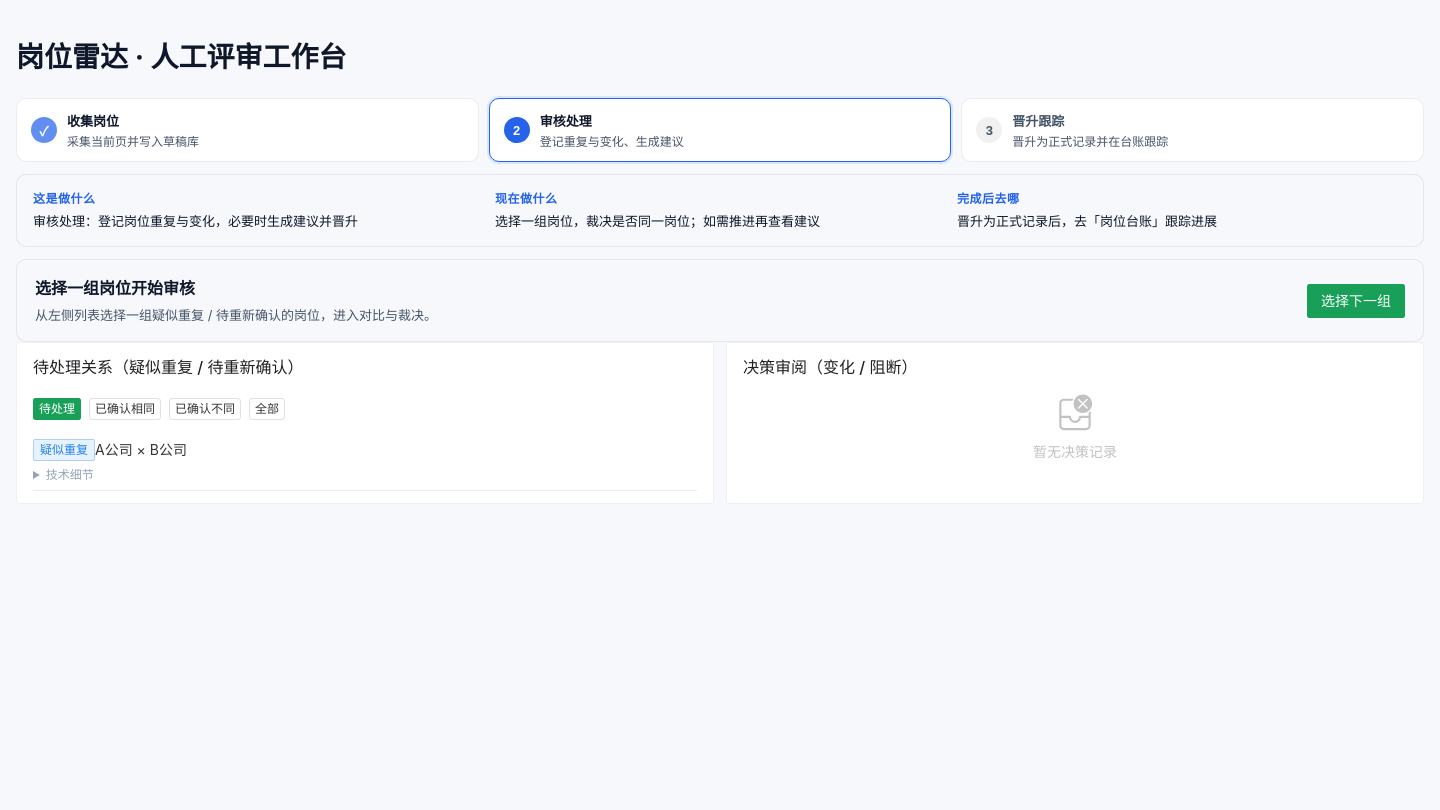
Scenario: RadarReviewPage 候选对比 + 变化 + 证据 › 选中关系后展示两侧候选对比与变化字段
Click the button with test id "relation-rel-1" at (110, 450), box left=33, top=439, right=187, bottom=461
(page scrolled)
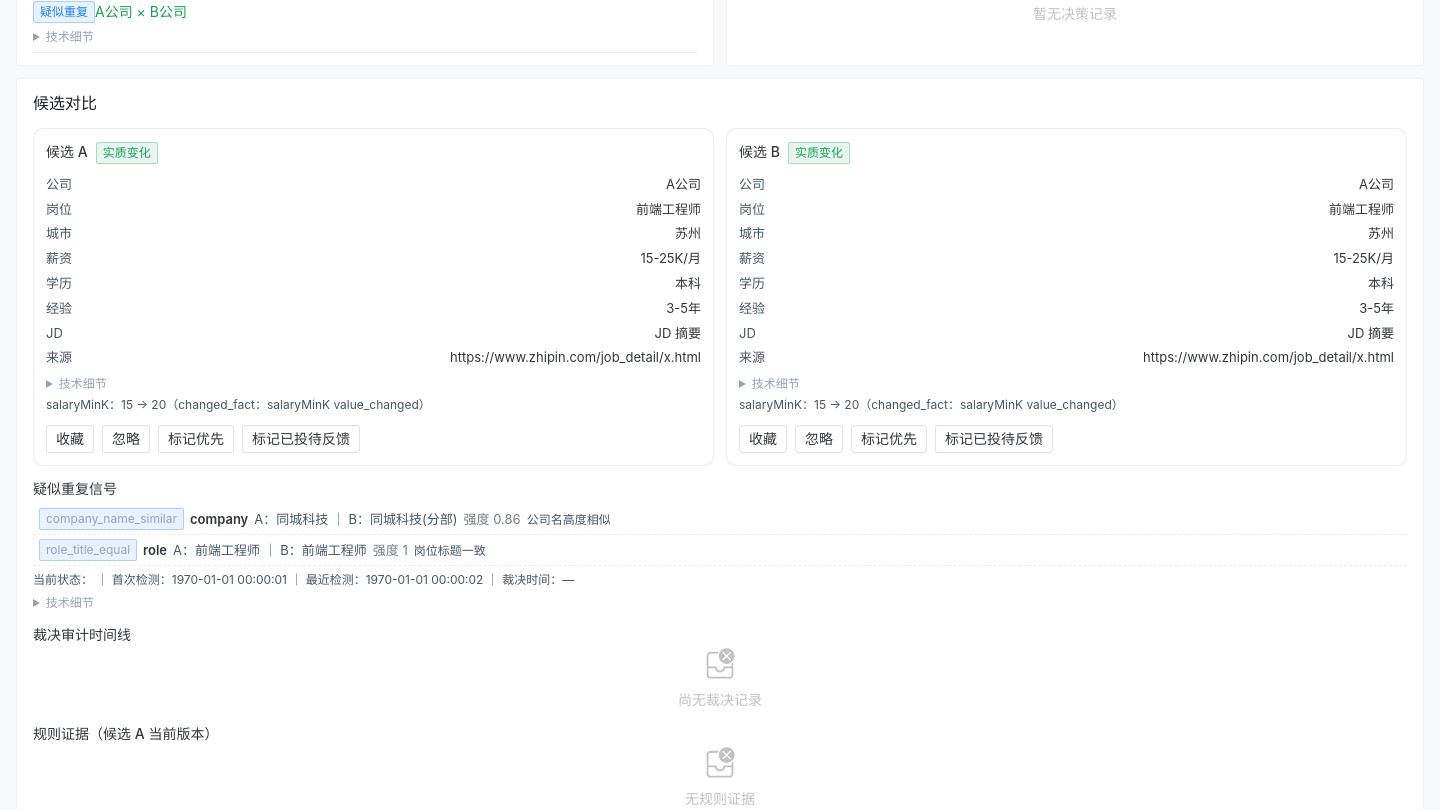
expect the 1st text with test id "changed-field" shows "salaryMinK": met, box left=46, top=397, right=431, bottom=412
